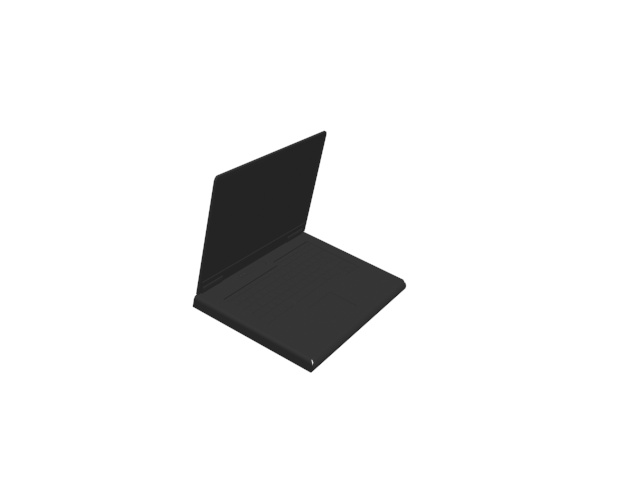laptop_computer: (193, 129, 408, 376)
